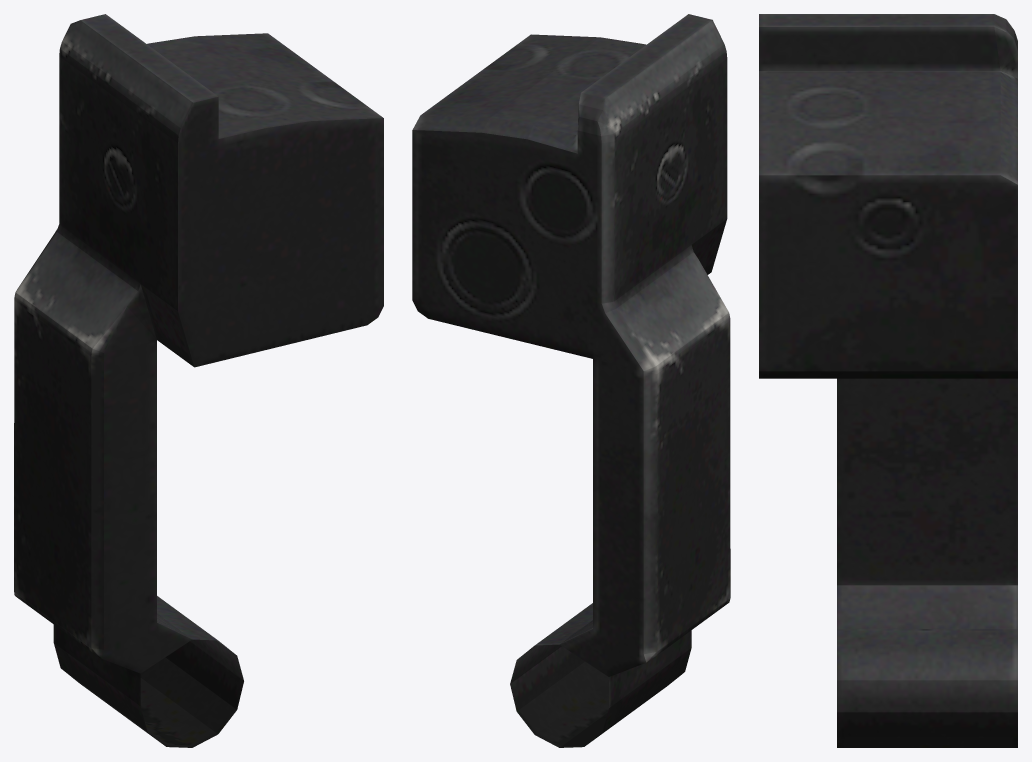
3 renders of one model, left to right at view 1: azimuth 30°, elevation 25°; view 2: azimuth 150°, elevation 25°; view 3: azimuth 270°, elevation 25°, orthographic. The views are drawn at different scales.
Parts seen in each view (by area): view 1: TW_624c2e8614da335f1e034d8c_PZ_Import; view 2: TW_624c2e8614da335f1e034d8c_PZ_Import; view 3: TW_624c2e8614da335f1e034d8c_PZ_Import.
Part boxes in pixels (x1=…): TW_624c2e8614da335f1e034d8c_PZ_Import: x1=14, y1=14, x2=383, y2=747; TW_624c2e8614da335f1e034d8c_PZ_Import: x1=412, y1=14, x2=730, y2=747; TW_624c2e8614da335f1e034d8c_PZ_Import: x1=759, y1=14, x2=1017, y2=747.
Size of the model in its own units: 0.0101 by 0.00863 by 0.0261.
1 material, 1 textured.
